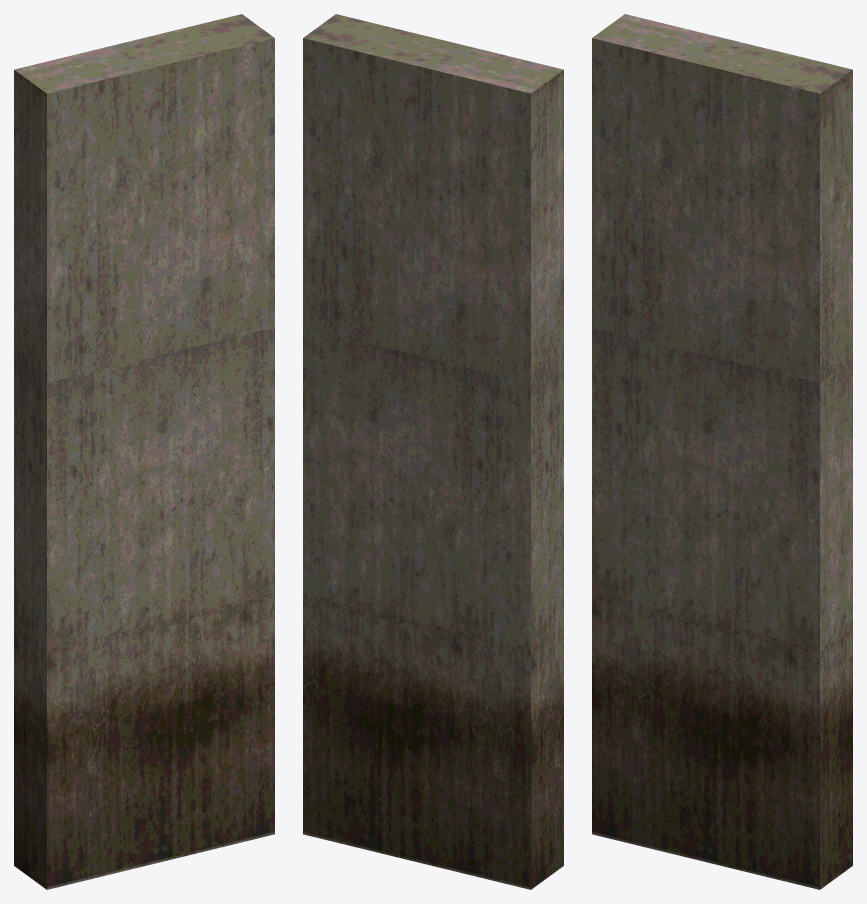
File: Parede2x25grande.fbx
3 views of the same model, side by side, from view 1: azimuth 30°, elevation 25°; view 2: azimuth 150°, elevation 25°; view 3: azimuth 330°, elevation 25° (orthographic).
Visible parts, largest first — view 1: Parede 2x4.25; view 2: Parede 2x4.25; view 3: Parede 2x4.25.
Part boxes in pixels (box(x1,y1,x2,y2)): Parede 2x4.25: box(14, 14, 274, 889); Parede 2x4.25: box(303, 14, 563, 889); Parede 2x4.25: box(592, 14, 852, 889).
Bounding box in the file's own units: 200 × 668 × 50.
1 material, 1 textured.
